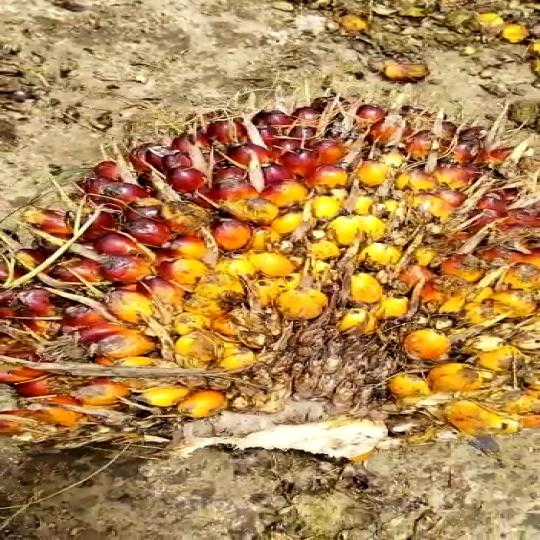masak: (0, 100, 540, 469)
